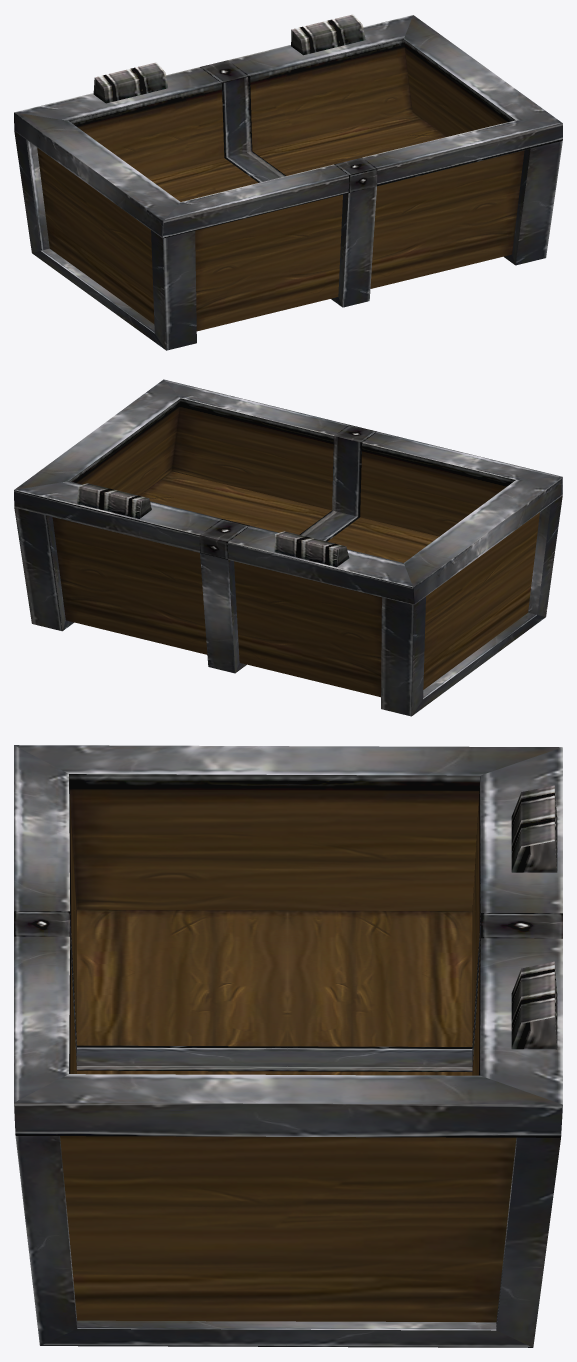
Rendered from treasure-chest-bottom.glb.
3 renders of one model, top to bottom at view 1: azimuth 30°, elevation 25°; view 2: azimuth 150°, elevation 25°; view 3: azimuth 270°, elevation 25°, orthographic. The views are drawn at different scales.
Parts seen in each view (by area): view 1: ChestBottom; view 2: ChestBottom; view 3: ChestBottom.
Part boxes in pixels (x1=…): ChestBottom: x1=14, y1=14, x2=562, y2=350; ChestBottom: x1=14, y1=379, x2=562, y2=716; ChestBottom: x1=14, y1=745, x2=562, y2=1347.
Size of what is drawn, in the model's own units: 1.07 by 0.3955 by 0.6931.
1 material, 1 textured.
